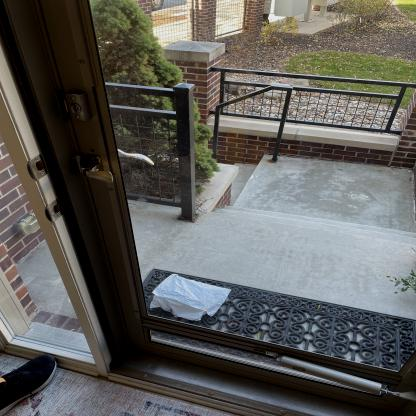plastic_bag: (150, 273, 231, 322)
